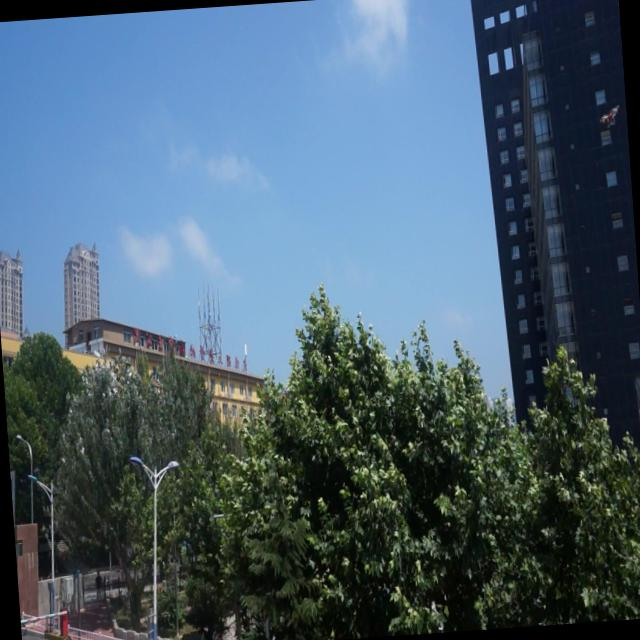drone: (598, 98, 624, 134)
